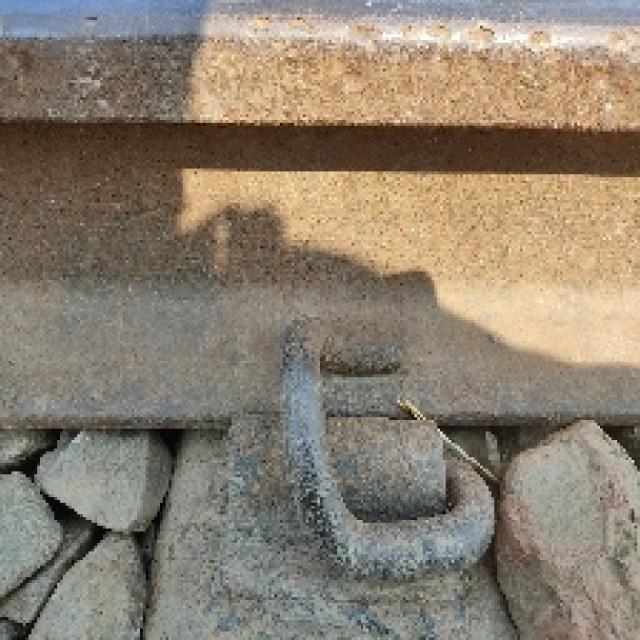Good Fasteners: (220, 320, 491, 637)
